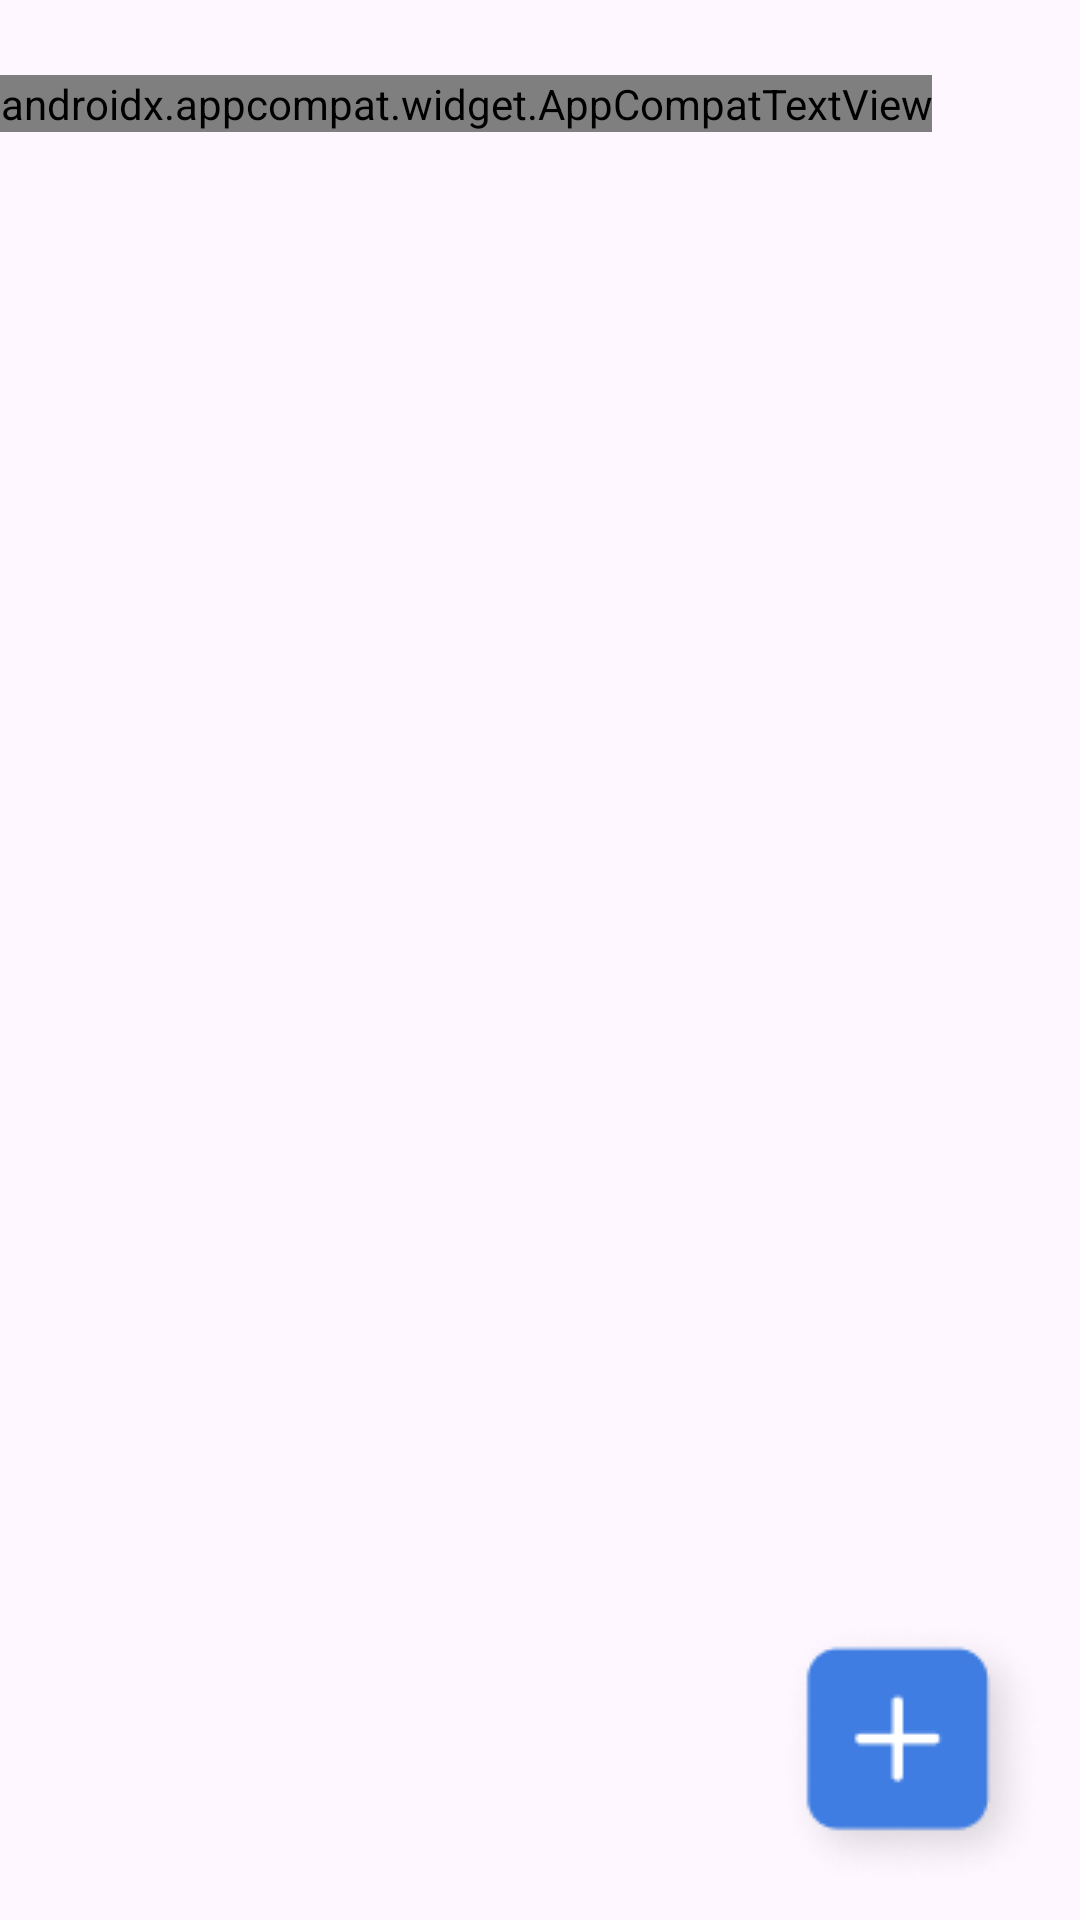

Point at icon controls on the screen. Image size 1080 x 1920, points as (x,y).
add more: (901,1741)
